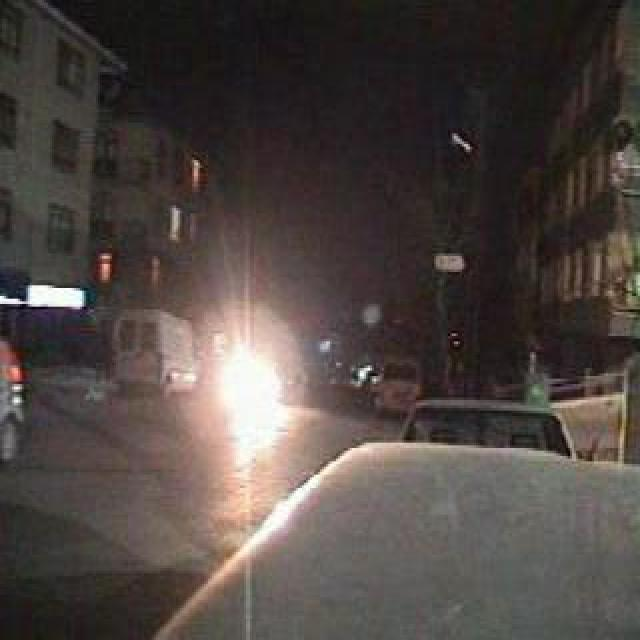other: (187, 340, 296, 435)
